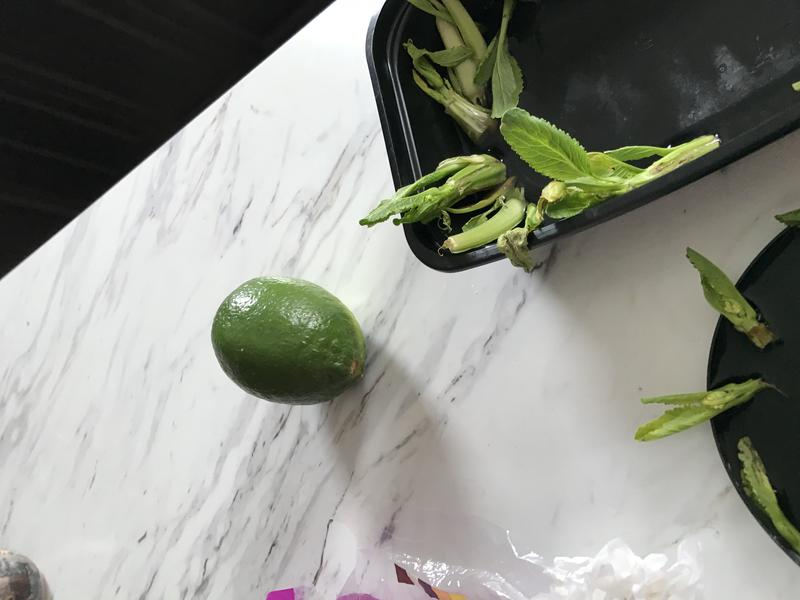lime: (200, 269, 386, 412)
